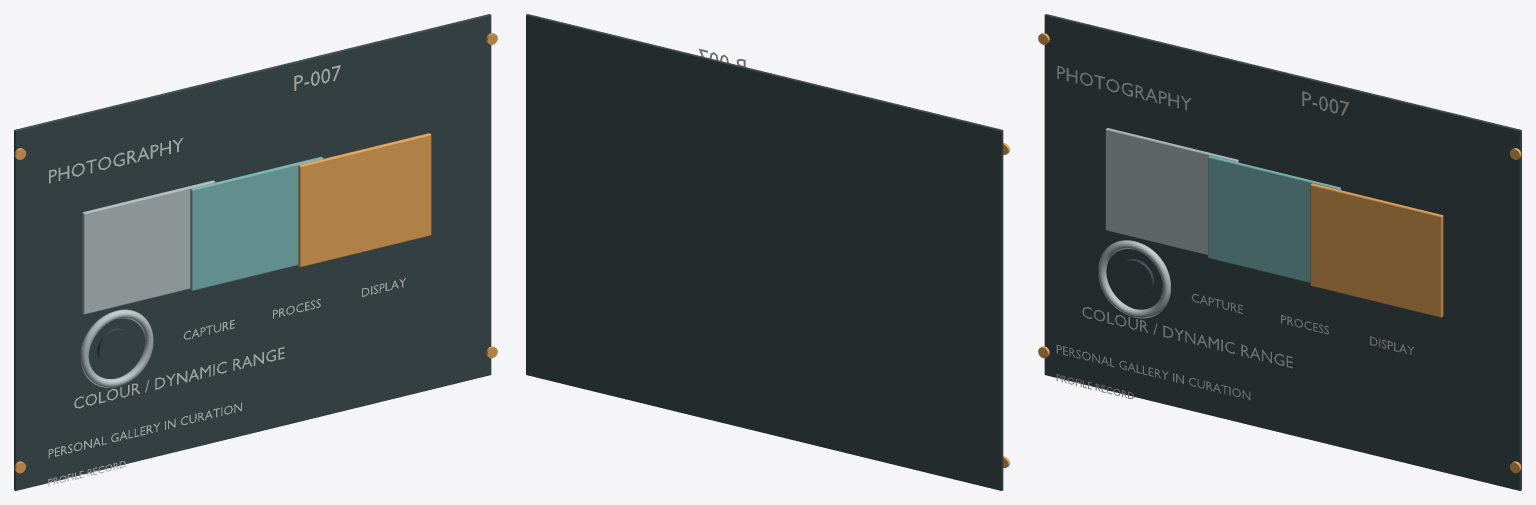
File: photography.glb
The picture shows the model from 3 angles, left to right: view 1: azimuth 30°, elevation 25°; view 2: azimuth 150°, elevation 25°; view 3: azimuth 330°, elevation 25°; orthographic projection.
Parts seen in each view (by area): view 1: optical-core__Project_Graphite.006, optical-core__Project_Amber.001, optical-core__Project_Silver.001, optical-core__Project_Trace.001, optical-lenses__Project_Ceramic.006, optical-lenses__Project_Silver; view 2: optical-core__Project_Graphite.006; view 3: optical-core__Project_Graphite.006, optical-core__Project_Amber.001, optical-core__Project_Silver.001, optical-core__Project_Trace.001, optical-lenses__Project_Ceramic.006, optical-lenses__Project_Silver.
Boxes of the visible parts, <box> form: optical-core__Project_Graphite.006: <box>14,14,491,490</box>; optical-core__Project_Amber.001: <box>298,133,431,267</box>; optical-core__Project_Silver.001: <box>82,180,215,314</box>; optical-core__Project_Trace.001: <box>190,157,323,290</box>; optical-lenses__Project_Ceramic.006: <box>48,65,405,485</box>; optical-lenses__Project_Silver: <box>80,309,153,387</box>; optical-core__Project_Graphite.006: <box>526,14,1003,490</box>; optical-core__Project_Graphite.006: <box>1044,14,1521,490</box>; optical-core__Project_Amber.001: <box>1310,183,1443,317</box>; optical-core__Project_Silver.001: <box>1105,128,1238,254</box>; optical-core__Project_Trace.001: <box>1208,155,1340,282</box>; optical-lenses__Project_Ceramic.006: <box>1056,65,1414,400</box>; optical-lenses__Project_Silver: <box>1098,240,1170,318</box>.
Bounding box in the file's own units: 4.17 × 2.98 × 0.1795.
